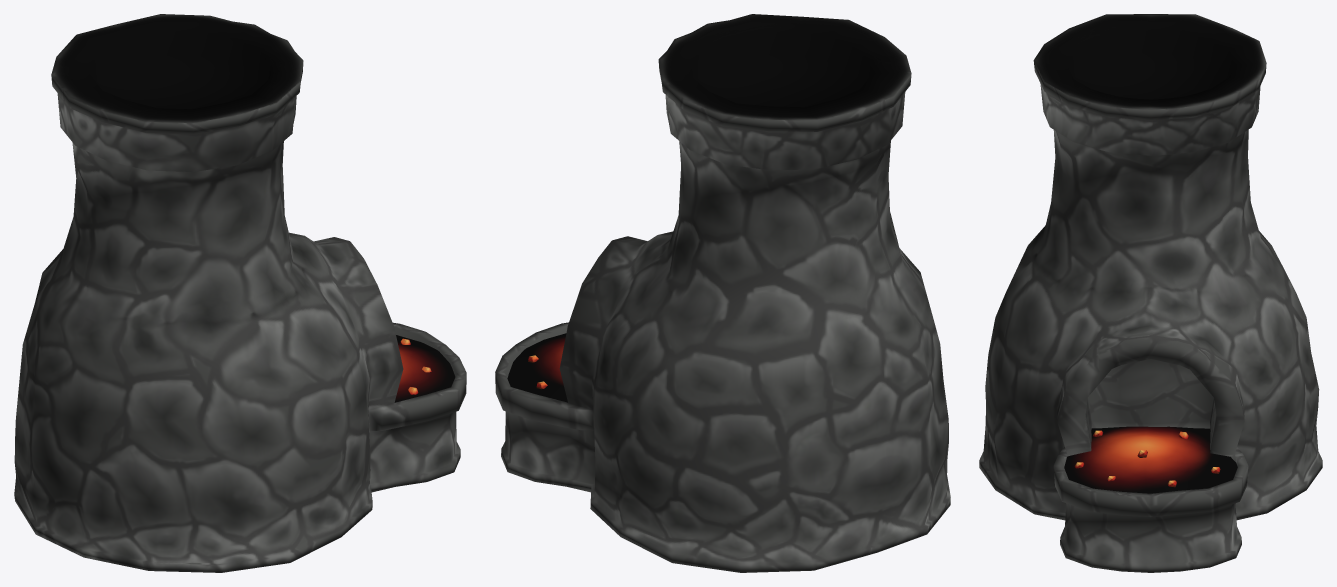
File: Furnace (1).fbx
3 renders of one model, left to right at view 1: azimuth 30°, elevation 25°; view 2: azimuth 150°, elevation 25°; view 3: azimuth 270°, elevation 25°, orthographic. The views are drawn at different scales.
Visible parts, largest first — view 1: Cylinder; view 2: Cylinder; view 3: Cylinder.
Boxes of the visible parts, bbox=[...] form: Cylinder: bbox=[14, 14, 466, 572]; Cylinder: bbox=[495, 14, 950, 572]; Cylinder: bbox=[979, 14, 1322, 572].
Bounding box in the file's own units: 435 × 339 × 435.
